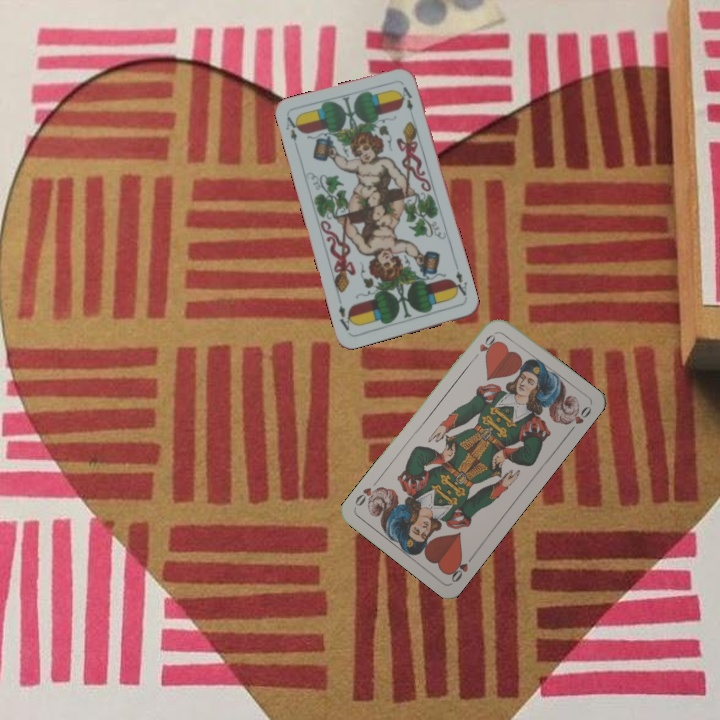EA: (448, 267, 470, 301), (282, 113, 303, 144)
HO: (445, 551, 477, 585), (470, 329, 499, 362)
